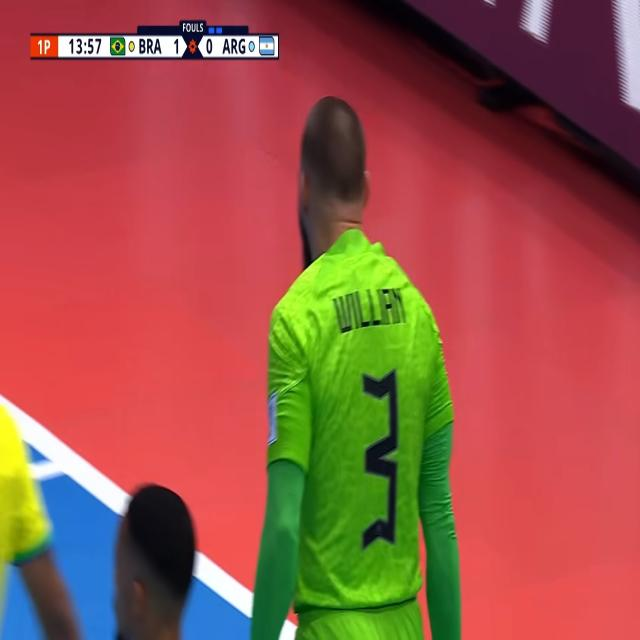Goal-keeper: (254, 96, 457, 634)
